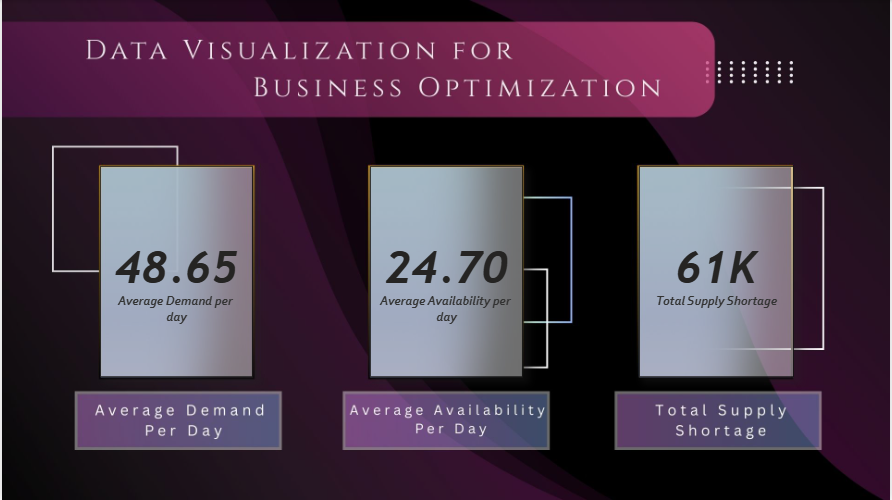

What the dashboard file says about the page in this screenshot:
{"tool":"powerbi","page":{"name":"Page 1","canvas":[1280,720],"ordinal":0},"visuals":[{"type":"card","fields":{"Values":["Measure Table.Average Demand per day"]},"box":[141.1,239,220.3,303.8],"z":0},{"type":"card","fields":{"Values":["Measure Table.Total supply Shortage"]},"box":[917.3,239,223.2,303.8],"z":1000},{"type":"card","fields":{"Values":["Measure Table.Average Availability per day"]},"box":[529.9,239,220.3,303.8],"z":2000}]}

Visuals, with their boxes in screenshot pixels (x1, y1, x2, y2), scaled from the page's 1280x720 canvas onto the 892x500 screenshot:
card - Measure Table.Average Demand per day: pyautogui.locateOnScreen(98, 166, 252, 377)
card - Measure Table.Total supply Shortage: pyautogui.locateOnScreen(639, 166, 795, 377)
card - Measure Table.Average Availability per day: pyautogui.locateOnScreen(369, 166, 523, 377)
